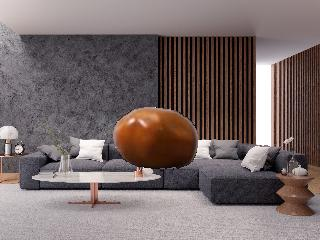potato: (109, 104, 202, 173)
